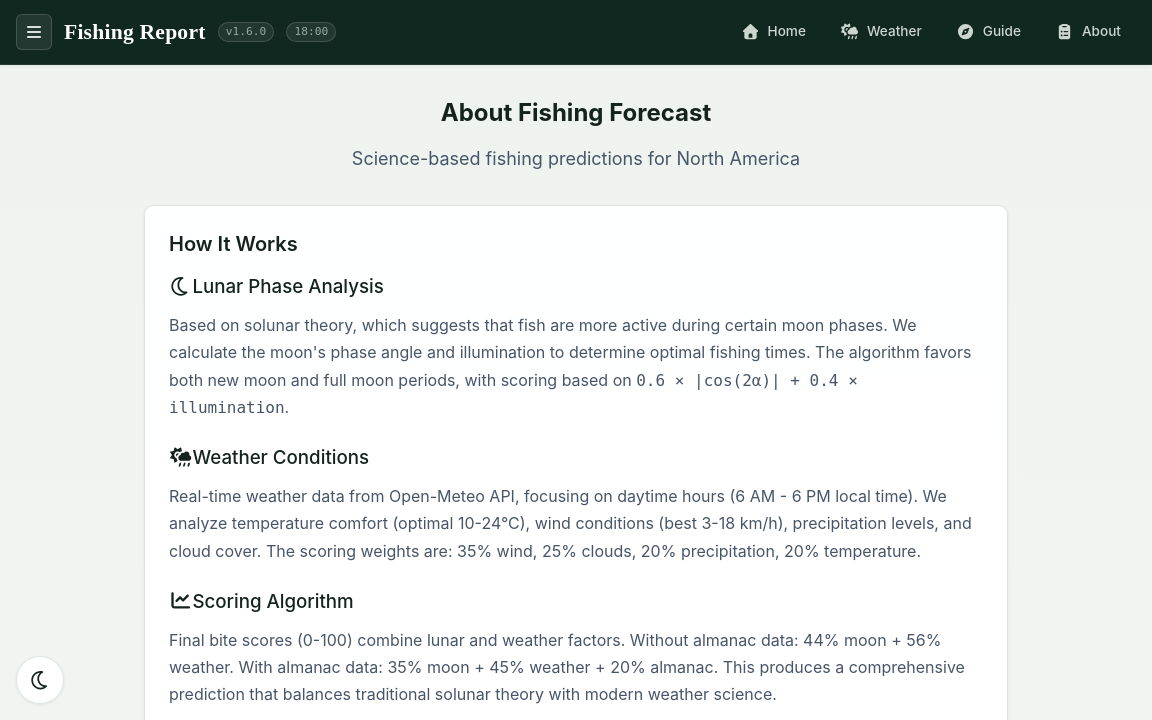
MissionDrawer › is available from every route and preserves the saved/recent copy
The image size is (1152, 720).
Click the button with test id "mission-drawer-toggle": click(34, 32) left=16, top=14, right=52, bottom=50
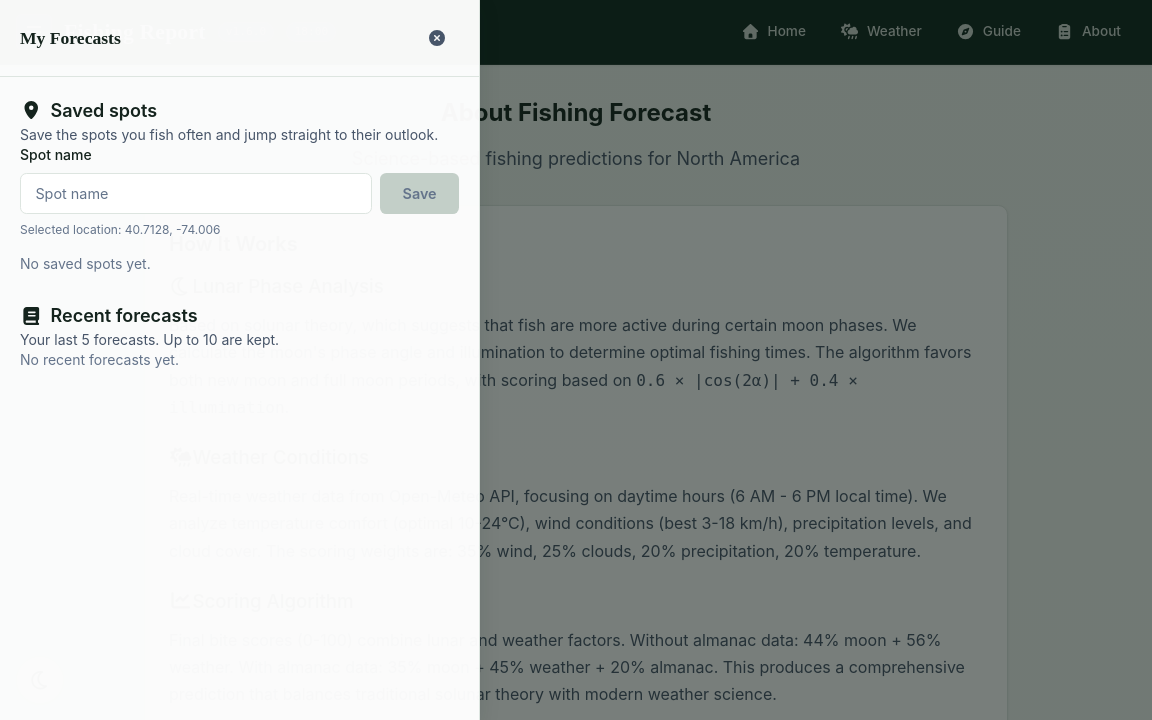
expect the heading "Saved spots" is shown: met, box left=20, top=100, right=157, bottom=121
expect the heading "Recent forecasts" is shown: met, box left=20, top=305, right=198, bottom=326
expect the text "Your last 5 forecasts. Up to 10 are kept." is shown: met, box left=20, top=331, right=279, bottom=348
